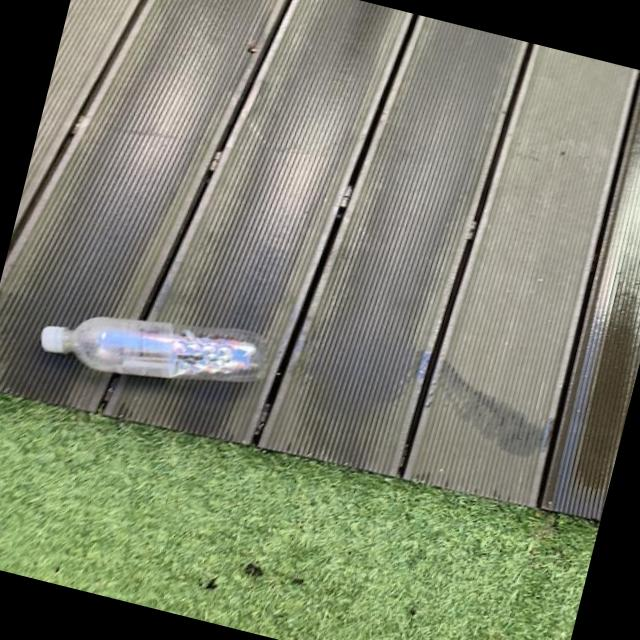plastic_bottle: (35, 282, 274, 410)
